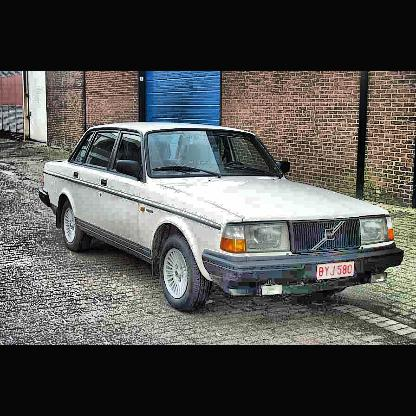Volvo 240 Sedan 1993: (39, 122, 406, 313)
